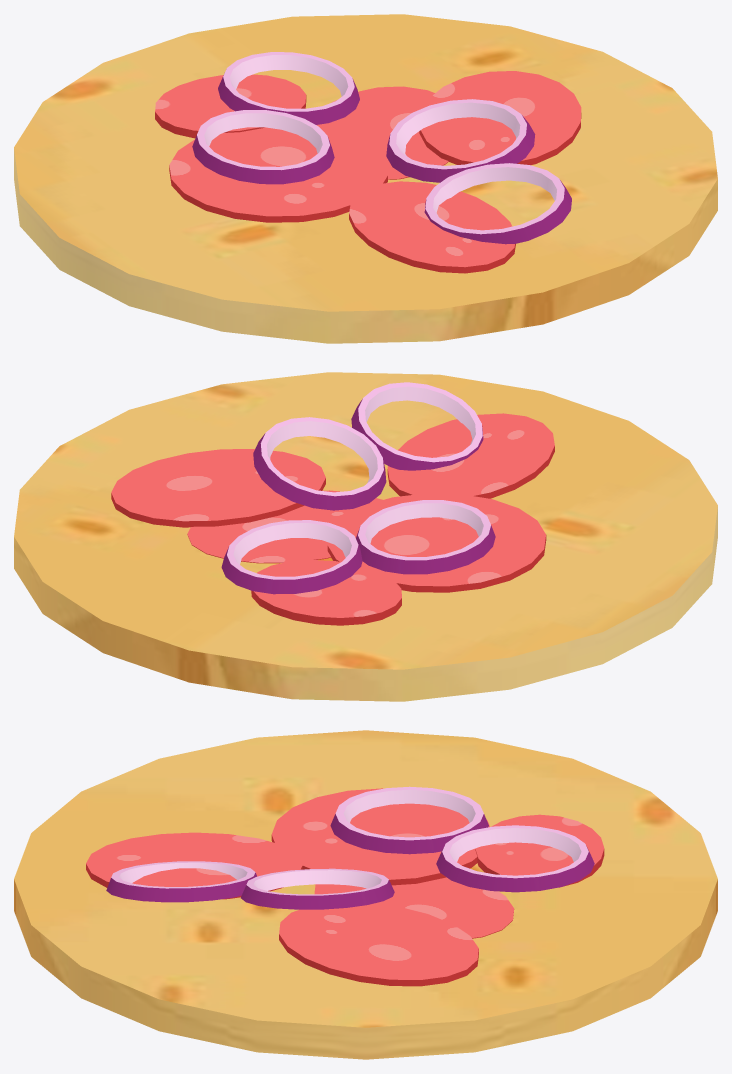
The model's file is taco_Carne_Cebolla.glb.
3 views of the same model, one above another, from view 1: azimuth 30°, elevation 25°; view 2: azimuth 150°, elevation 25°; view 3: azimuth 270°, elevation 25° (orthographic).
Visible parts, largest first — view 1: tortilla.002, Ham_Slice_Ham_0.002, Onion_Slice_Onion_0.001, Onion_Slice_Onion_0; view 2: tortilla.002, Ham_Slice_Ham_0.002, Onion_Slice_Onion_0, Onion_Slice_Onion_0.001; view 3: tortilla.002, Ham_Slice_Ham_0.002, Onion_Slice_Onion_0, Onion_Slice_Onion_0.001.
Boxes of the visible parts, x1,y1,x2,y2 form: tortilla.002: (14, 14, 717, 343); Ham_Slice_Ham_0.002: (155, 71, 581, 273); Onion_Slice_Onion_0.001: (386, 99, 571, 244); Onion_Slice_Onion_0: (192, 52, 359, 184); tortilla.002: (14, 372, 717, 701); Ham_Slice_Ham_0.002: (111, 413, 554, 625); Onion_Slice_Onion_0: (221, 500, 495, 594); Onion_Slice_Onion_0.001: (253, 382, 483, 510); tortilla.002: (14, 730, 717, 1059); Ham_Slice_Ham_0.002: (86, 788, 604, 986); Onion_Slice_Onion_0: (330, 786, 594, 892); Onion_Slice_Onion_0.001: (106, 861, 394, 909).
Bounding box in the file's own units: 0.2118 × 0.0248 × 0.2118.
Materials: 3 (3 with a texture image).
